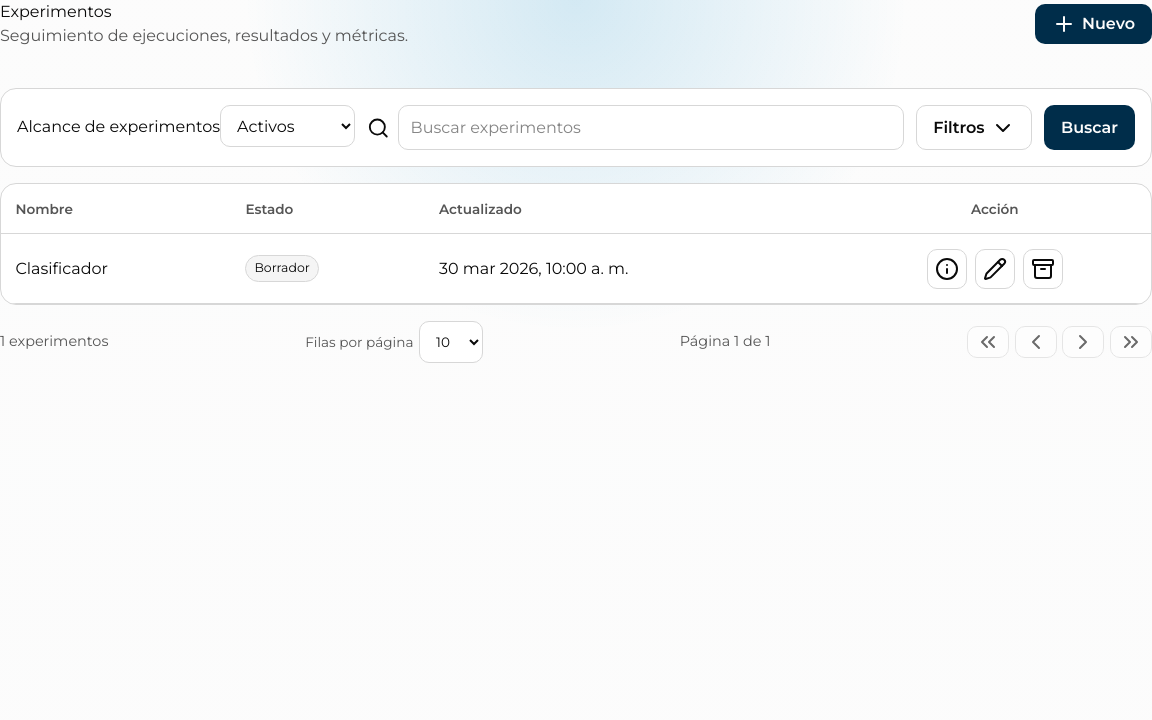
Test: ExperimentsPage › starts a draft and exposes localized errors
Click the button named "Ver detalle": (947, 269) [927,249,967,289]
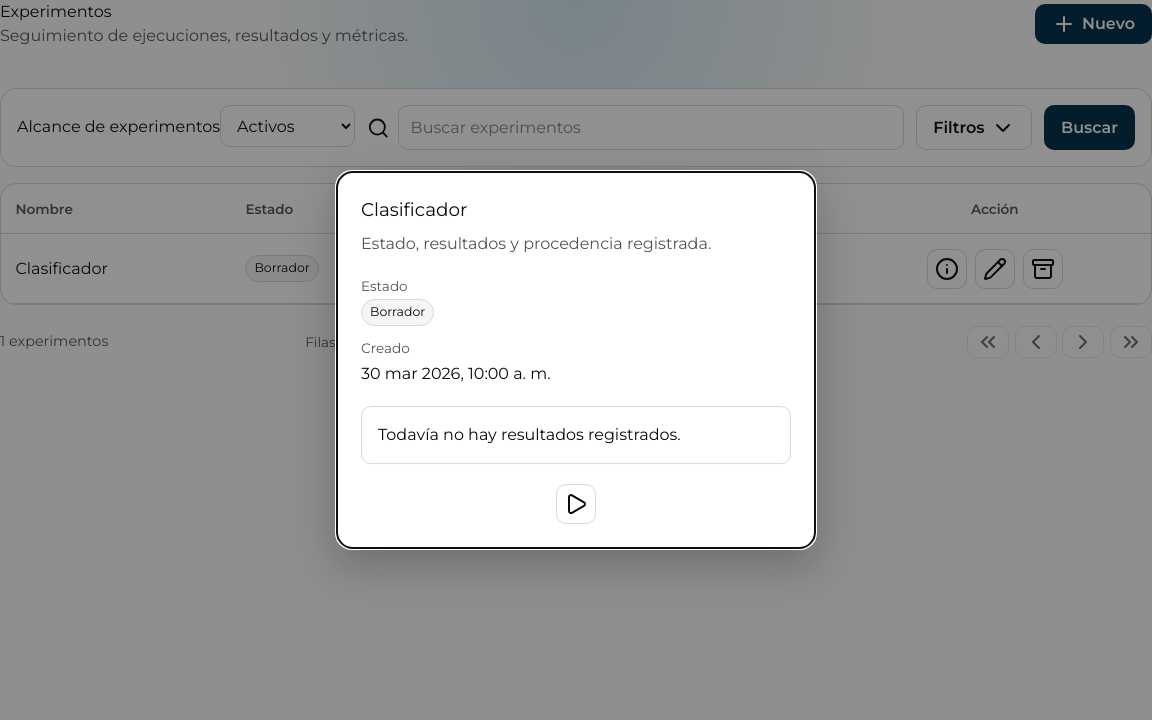
Click the button named "Iniciar experimento": (576, 504) [556,484,596,524]
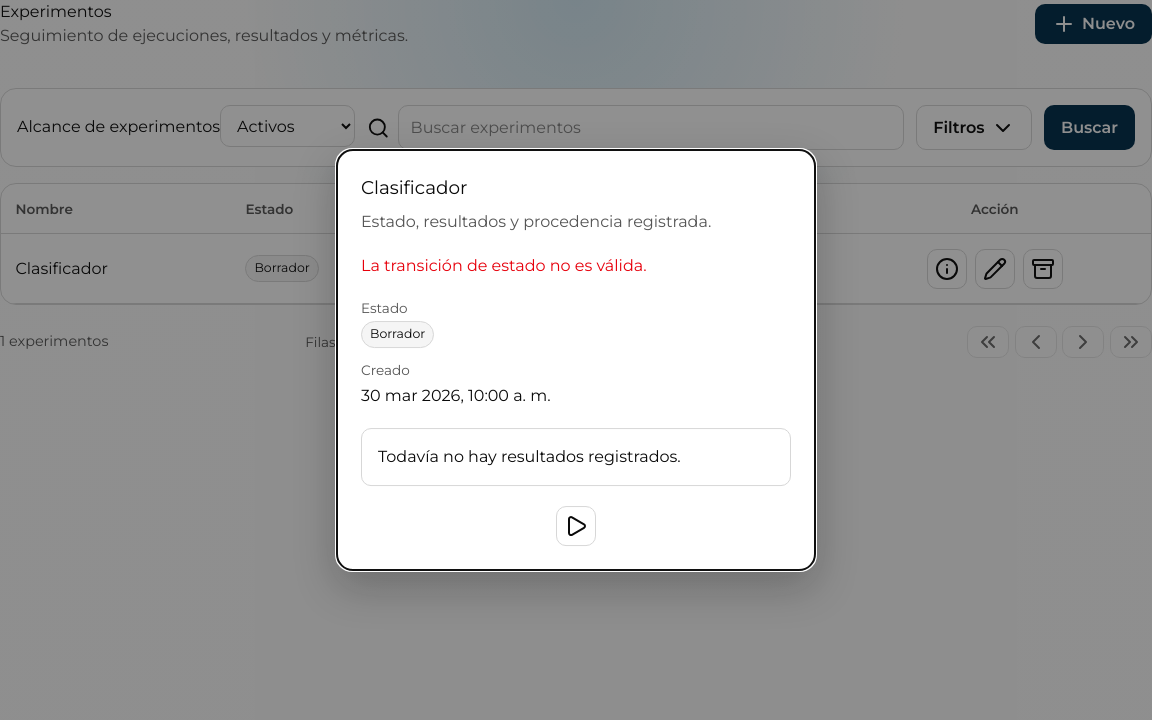
Expected: the message reads "La transición de estado no es válida.", [361,256,647,275]
